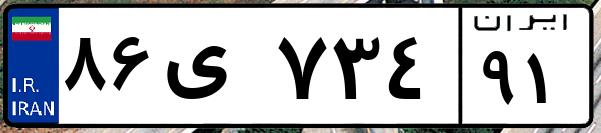1: (525, 38, 570, 115)
3: (330, 28, 385, 110)
4: (385, 28, 445, 110)
6: (110, 28, 158, 98)
7: (270, 28, 330, 110)
8: (57, 26, 110, 100)
9: (475, 38, 525, 113)
ی: (158, 20, 270, 120)
